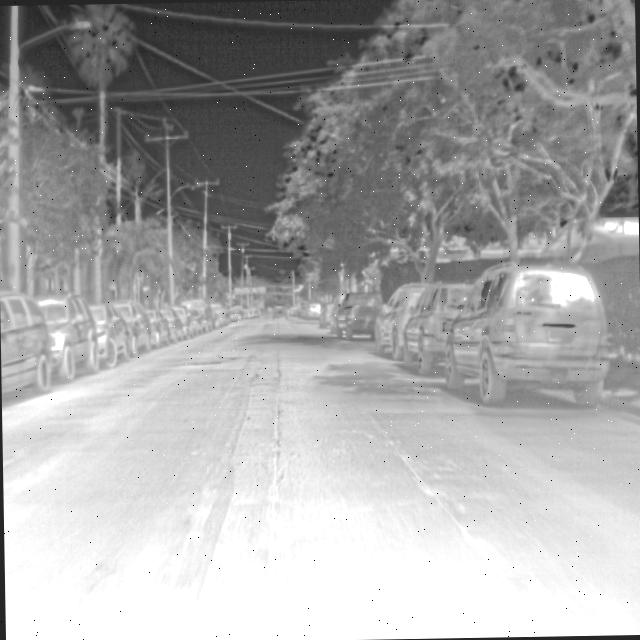Vehicle: (438, 254, 613, 411), (0, 281, 52, 418), (32, 290, 102, 383), (331, 289, 386, 342)
